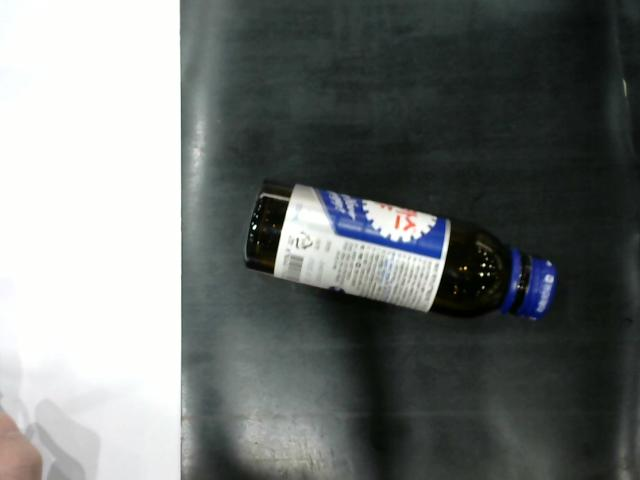glass: (243, 176, 561, 326)
